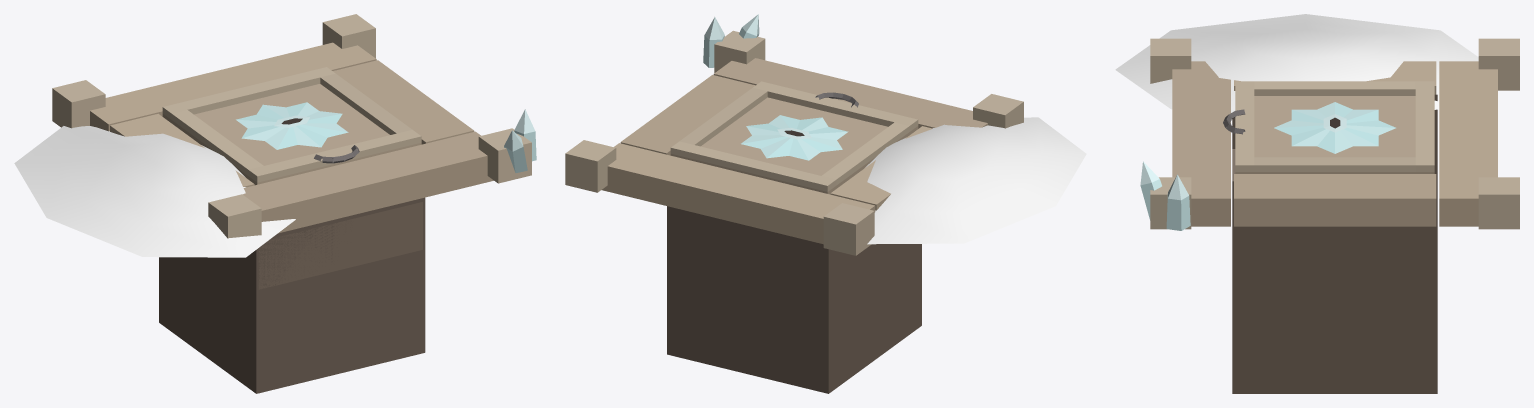
Rendered from trampilla_ligero.glb.
3 views of the same model, side by side, from view 1: azimuth 30°, elevation 25°; view 2: azimuth 150°, elevation 25°; view 3: azimuth 270°, elevation 25° (orthographic). The views are drawn at different scales.
Visible parts, largest first — view 1: trampilla, trampilla_arena, trampilla_tapa; view 2: trampilla, trampilla_arena, trampilla_tapa; view 3: trampilla, trampilla_tapa, trampilla_arena.
Part boxes in pixels (bbox=[...]): trampilla: bbox=[52, 14, 536, 393]; trampilla_arena: bbox=[14, 126, 295, 257]; trampilla_tapa: bbox=[162, 67, 421, 185]; trampilla: bbox=[565, 14, 1023, 393]; trampilla_arena: bbox=[865, 117, 1086, 244]; trampilla_tapa: bbox=[670, 81, 918, 194]; trampilla: bbox=[1140, 38, 1519, 393]; trampilla_tapa: bbox=[1223, 81, 1434, 173]; trampilla_arena: bbox=[1115, 14, 1478, 112].
Bounding box in the file's own units: 3.55 × 1.94 × 2.76.
